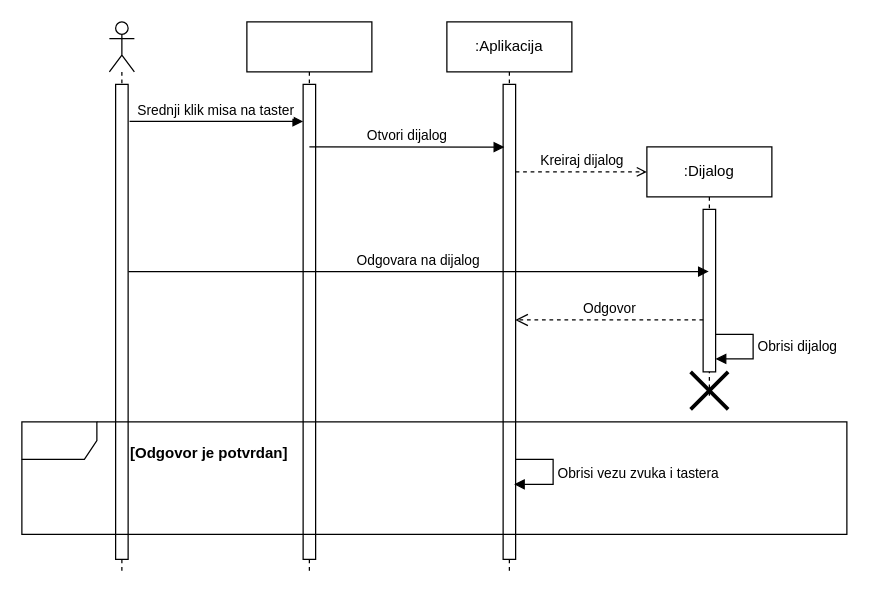
The diagram is 869 pixels wide and 594 high, and some of its shapes have lost their labels. The shapes that lost their labels are listed below. From the top down, each one's box as (x1, y1, x2, y2) in pixels, then its label:
(246, 21, 372, 572): :Glavni prozor
(21, 421, 847, 534): [opt]
